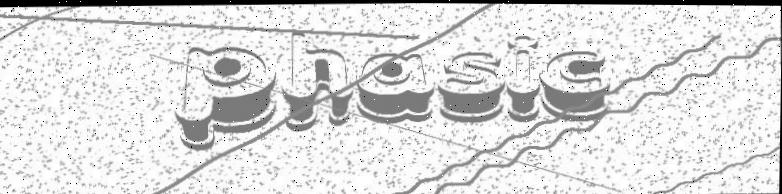a: (354, 51, 438, 125)
c: (540, 48, 610, 121)
h: (280, 29, 355, 132)
i: (505, 32, 542, 123)
p: (173, 43, 281, 152)
s: (437, 49, 506, 123)
